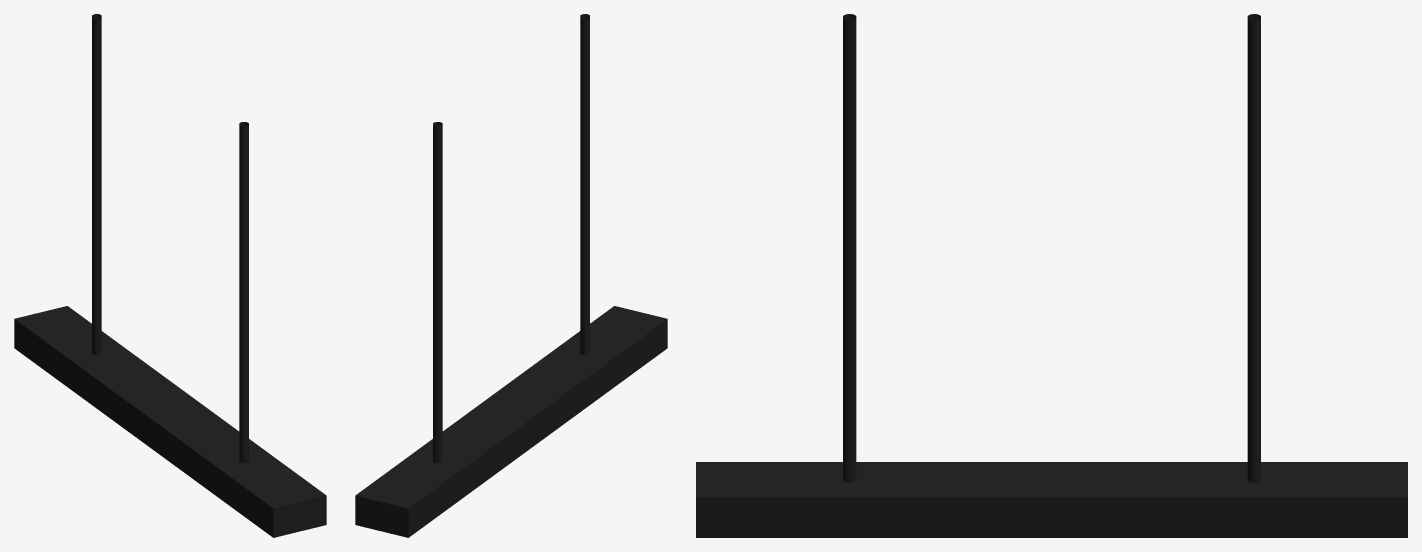
The model's file is biglight.fbx.
3 renders of one model, left to right at view 1: azimuth 30°, elevation 25°; view 2: azimuth 150°, elevation 25°; view 3: azimuth 270°, elevation 25°, orthographic. The views are drawn at different scales.
Visible parts, largest first — view 1: Big Light; view 2: Big Light; view 3: Big Light.
Boxes of the visible parts, x1,y1,x2,y2 form: Big Light: [14, 14, 326, 537]; Big Light: [355, 14, 667, 537]; Big Light: [696, 14, 1407, 537].
Size of the model in its own units: 40.07 by 264 by 338.
2 materials, 2 textured.
